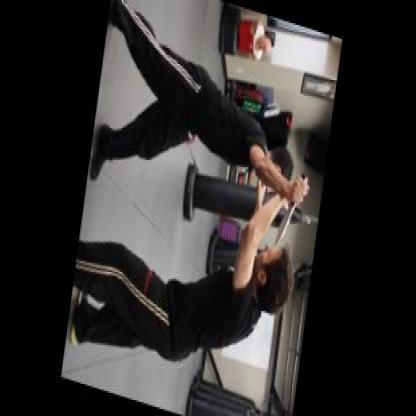knife: (276, 166, 312, 254)
